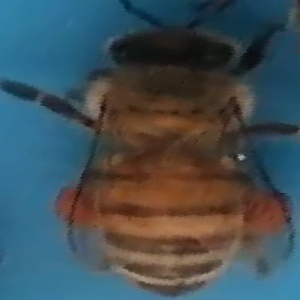bee: (32, 2, 297, 294)
